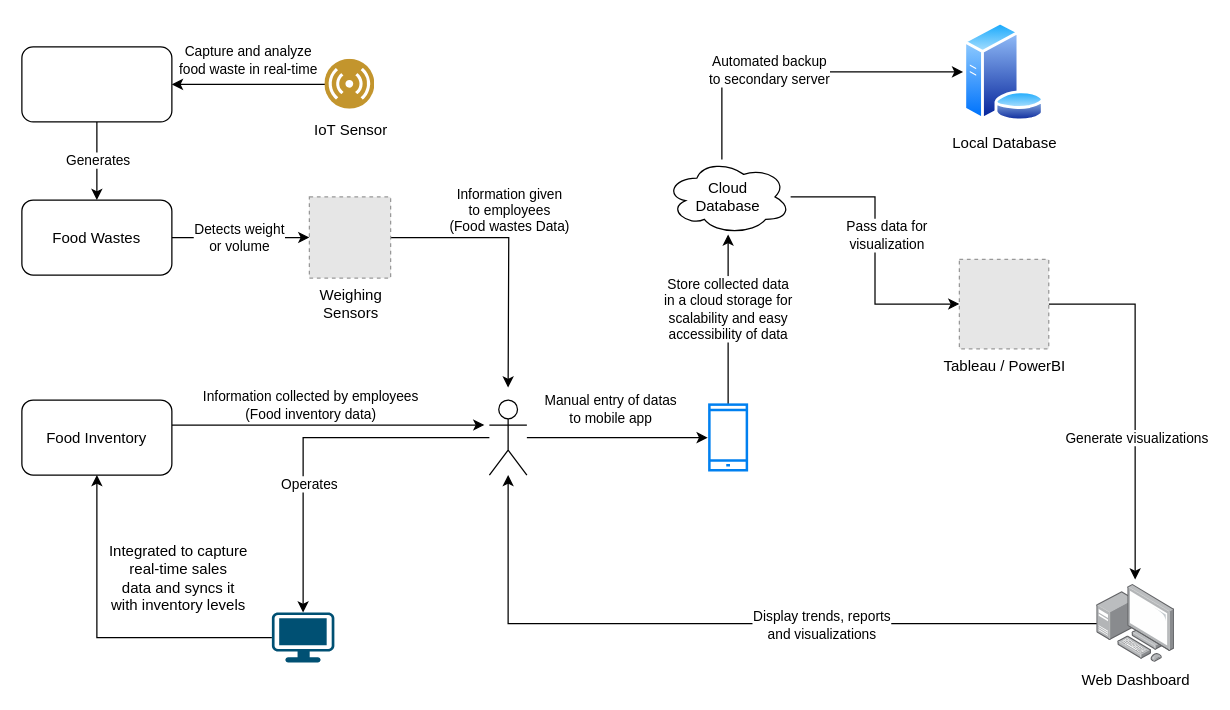
This 1230x710 diagram has some shape labels left out. Grey dashed boxes stand in for pictures. Each missing label, with the centre of its shape:
"Employees" goes at point 507,437.
"Kitchen" goes at point 96,84.
"Mobile Device or iPad" goes at point 728,437.
"Point of Sale System" goes at point 302,637.
